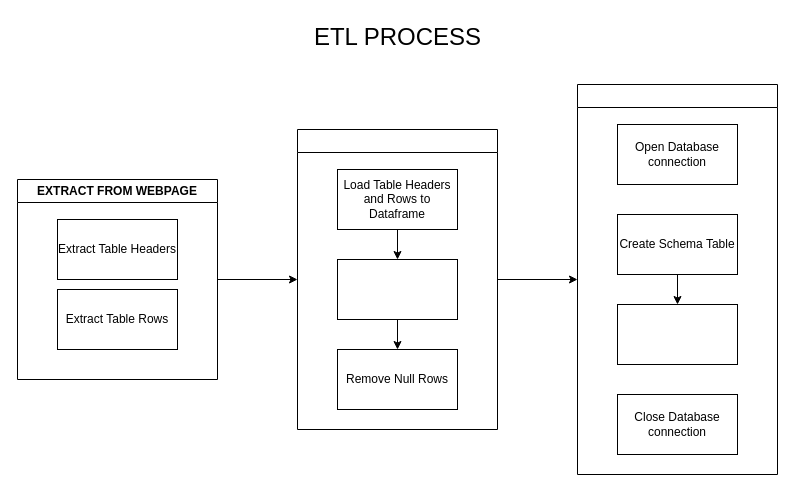
This 795x492 diagram has some shape labels left out. Each missing label, with the box of its shape:
Load DataFrame to SQL table: (616, 304, 738, 364)
LOAD TO SQL DATABASE: (576, 84, 778, 474)
Remove Duplicates: (336, 258, 458, 320)
TRANSFORM TO DATAFRAME: (296, 128, 498, 430)
